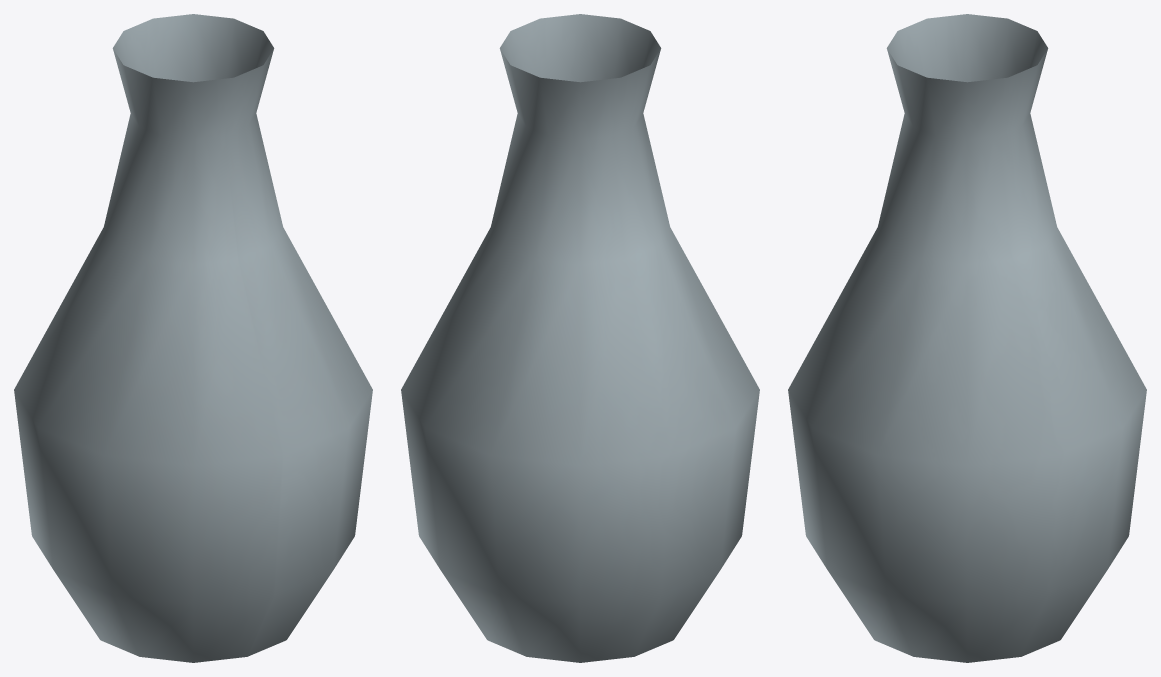
File: Carafe_1.gltf
The picture shows the model from 3 angles, left to right: view 1: azimuth 30°, elevation 25°; view 2: azimuth 150°, elevation 25°; view 3: azimuth 270°, elevation 25°; orthographic projection.
Parts seen in each view (by area): view 1: Carafe_1; view 2: Carafe_1; view 3: Carafe_1.
Boxes of the visible parts, x1,y1,x2,y2 form: Carafe_1: (14,14,372,662); Carafe_1: (401,14,759,662); Carafe_1: (788,14,1146,662).
Size of the model in its own units: 0.2 by 0.35 by 0.2.
1 material, 1 textured.
